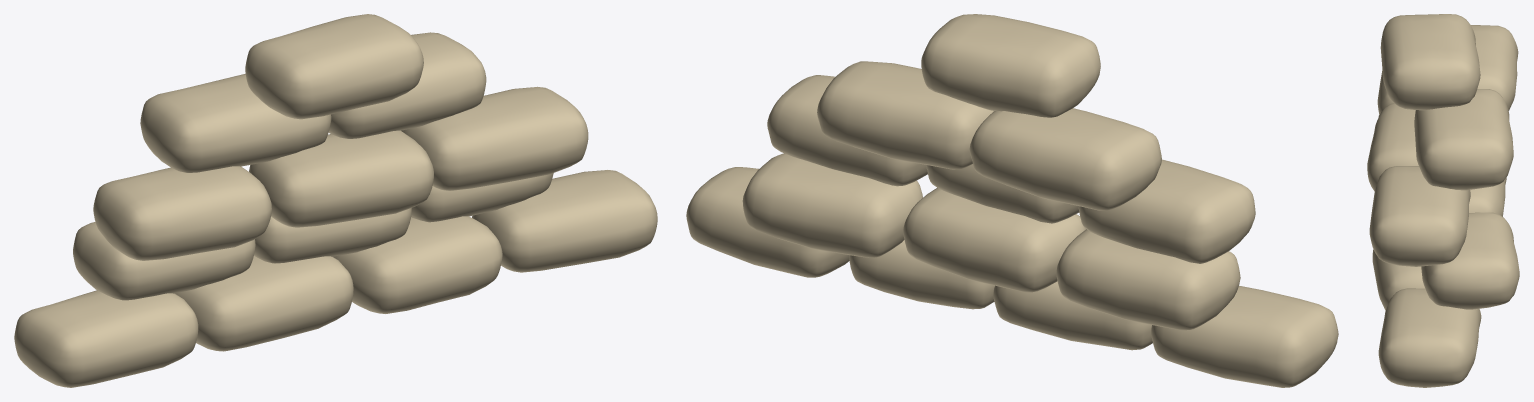
Rendered from sandbag_pile.glb.
The picture shows the model from 3 angles, left to right: view 1: azimuth 30°, elevation 25°; view 2: azimuth 150°, elevation 25°; view 3: azimuth 270°, elevation 25°; orthographic projection. The views are drawn at different scales.
Parts seen in each view (by area): view 1: sandbag_pile; view 2: sandbag_pile; view 3: sandbag_pile.
Boxes of the visible parts, x1=… form: sandbag_pile: x1=14, y1=14, x2=657, y2=387; sandbag_pile: x1=686, y1=14, x2=1338, y2=387; sandbag_pile: x1=1367, y1=14, x2=1519, y2=387.
Size of the model in its own units: 2.61 by 1.12 by 0.6556.
